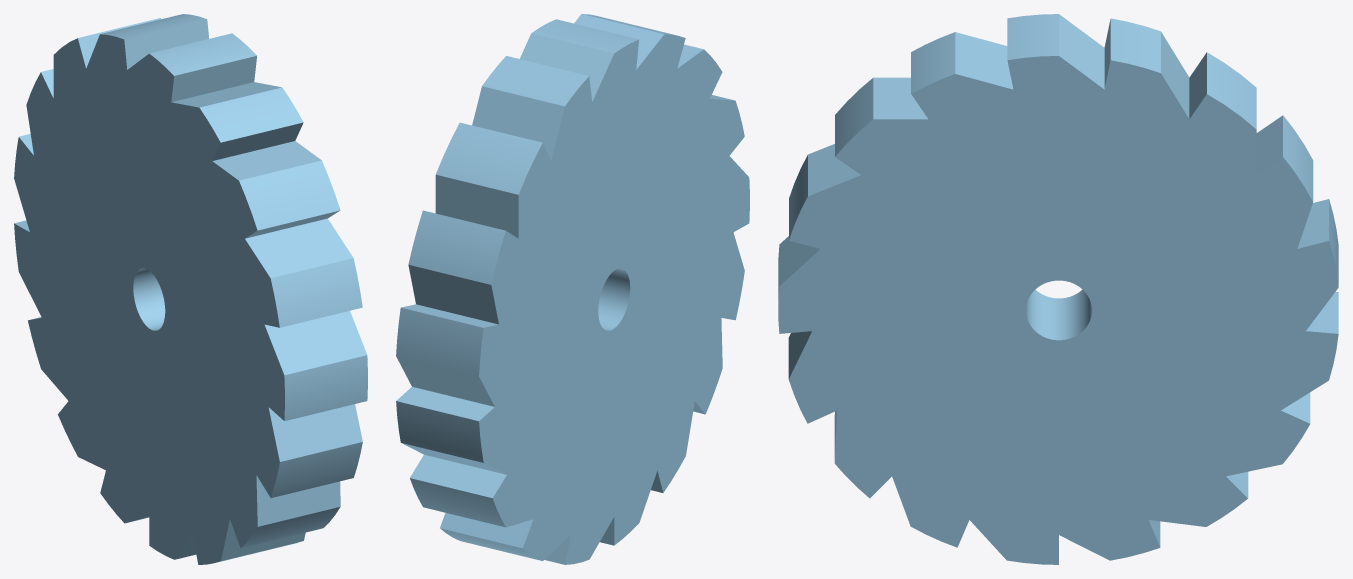
Rendered from wheel.dae.
3 renders of one model, left to right at view 1: azimuth 30°, elevation 25°; view 2: azimuth 150°, elevation 25°; view 3: azimuth 270°, elevation 25°, orthographic. The views are drawn at different scales.
Parts seen in each view (by area): view 1: ID2; view 2: ID2; view 3: ID2.
Part boxes in pixels (x1,y1,x2,y2): ID2: (14, 14, 367, 564); ID2: (396, 14, 749, 564); ID2: (778, 14, 1338, 564).
Bounding box in the file's own units: 0.03 × 0.1696 × 0.17.
